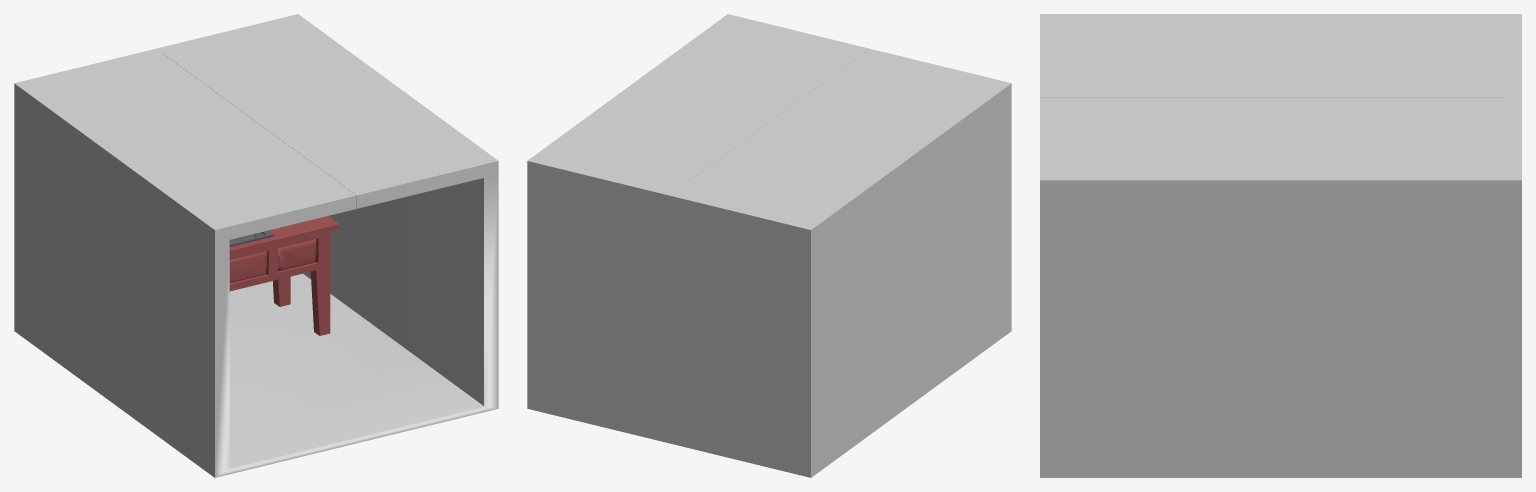
The picture shows the model from 3 angles, left to right: view 1: azimuth 30°, elevation 25°; view 2: azimuth 150°, elevation 25°; view 3: azimuth 270°, elevation 25°; orthographic projection. The views are drawn at different scales.
Visible parts, largest first — view 1: pCube4, des; view 2: pCube4; view 3: pCube4.
Boxes of the visible parts, x1,y1,x2,y2 form: pCube4: [14, 14, 498, 477]; des: [229, 216, 339, 335]; pCube4: [527, 14, 1011, 477]; pCube4: [1040, 14, 1521, 477].
Bounding box in the file's own units: 13.97 × 11.65 × 17.1.
